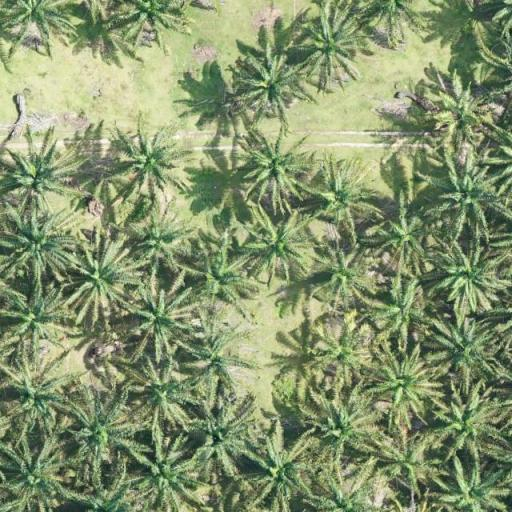Ganoderma: (323, 328, 370, 375), (433, 89, 480, 135), (320, 254, 362, 294)
